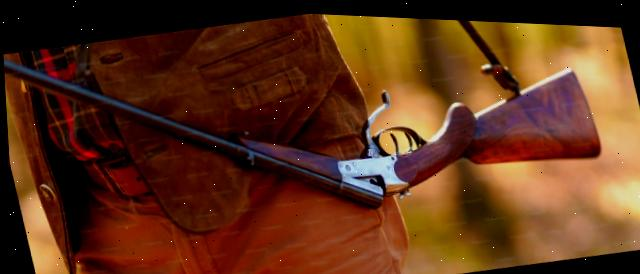rifle: (0, 0, 614, 272)
